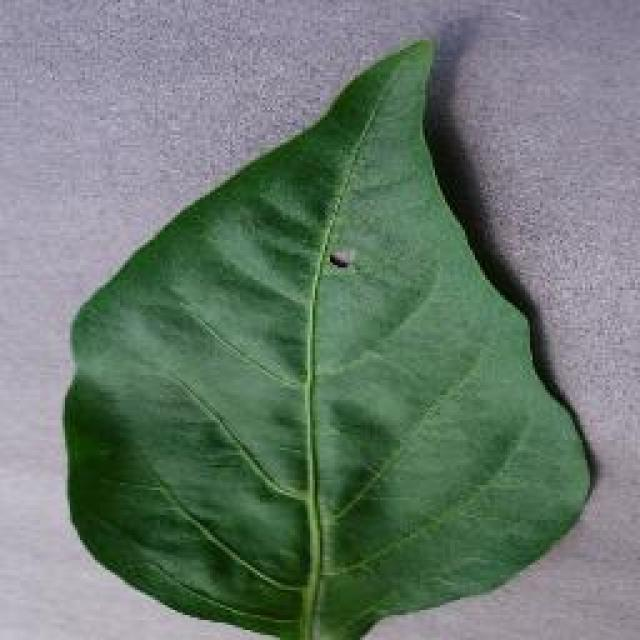Chilli_Healthy: (60, 32, 595, 638)
